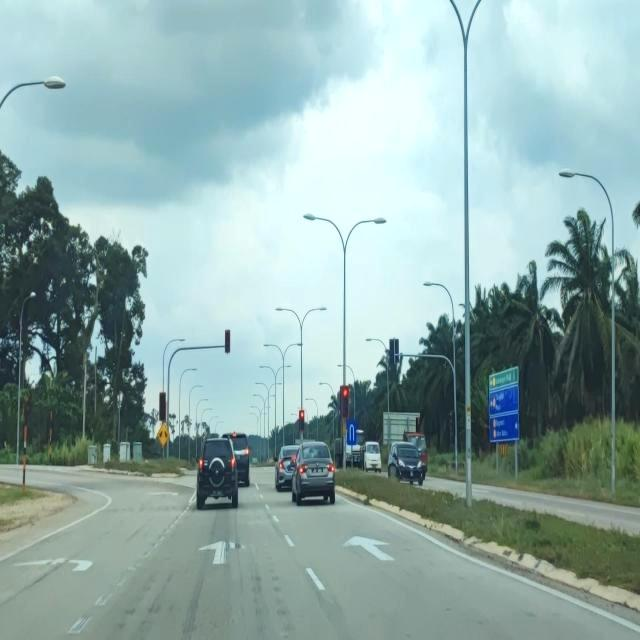Red: (340, 385, 350, 419), (298, 410, 304, 430)
